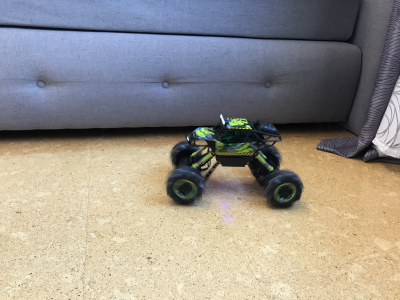remote control car: (164, 110, 305, 210)
